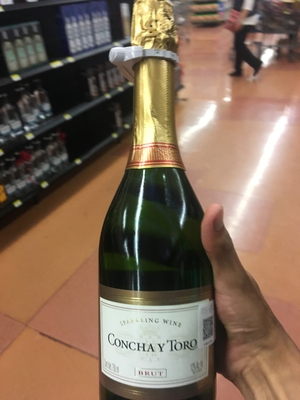brut: (98, 11, 219, 400)
